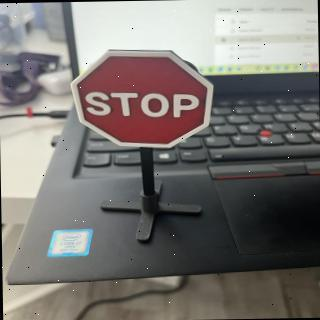sign_stop: (71, 49, 217, 154)
